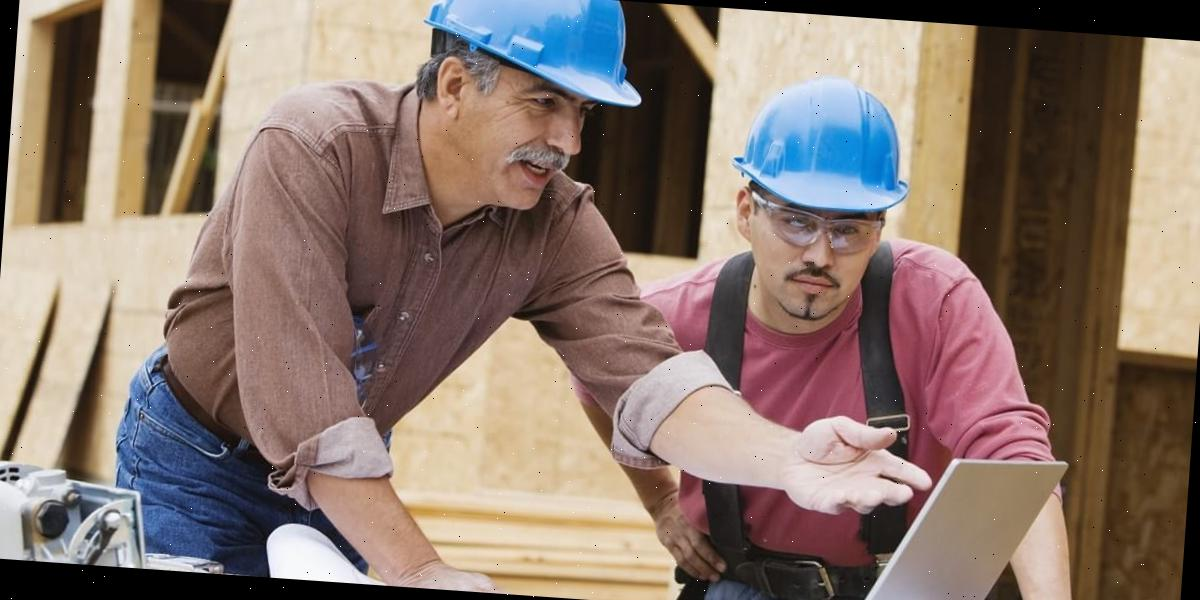helmet: (727, 67, 925, 220), (402, 0, 655, 113)
no_wear: (648, 298, 1020, 584), (160, 101, 448, 451)
